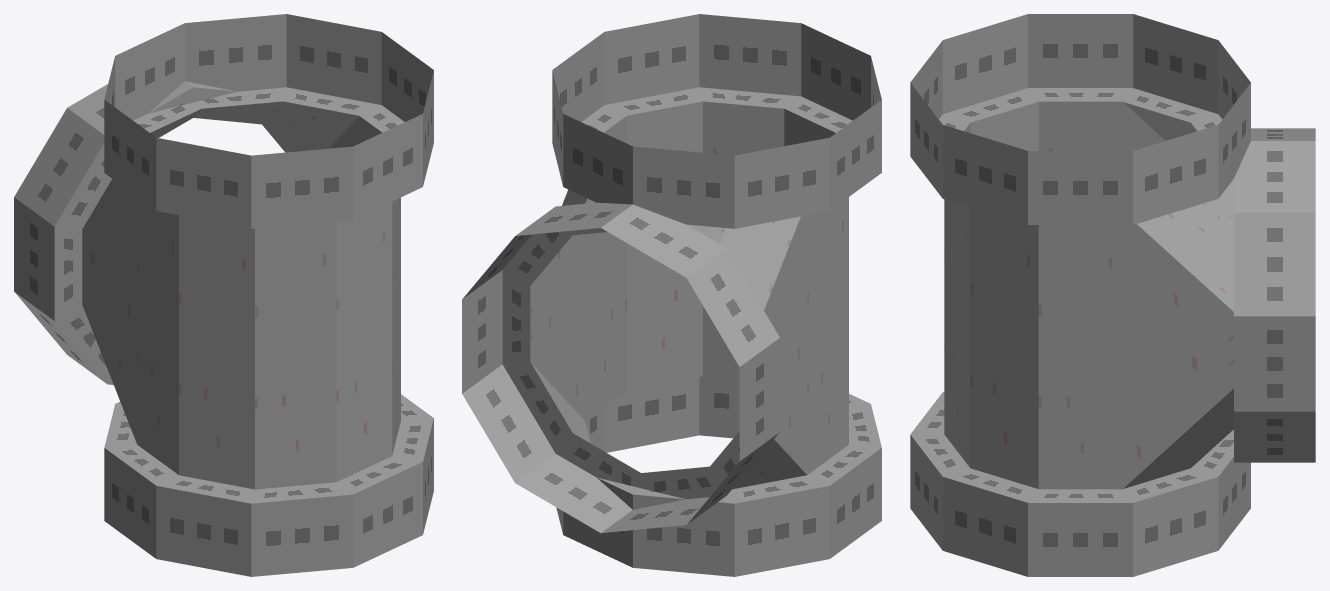
Rendered from Pipe_3.fbx.
3 renders of one model, left to right at view 1: azimuth 30°, elevation 25°; view 2: azimuth 150°, elevation 25°; view 3: azimuth 270°, elevation 25°, orthographic.
Parts seen in each view (by area): view 1: Pipe_3; view 2: Pipe_3; view 3: Pipe_3.
Part boxes in pixels (left/top/right/bottom): Pipe_3: left=14, top=14, right=433, bottom=576; Pipe_3: left=462, top=14, right=881, bottom=576; Pipe_3: left=910, top=14, right=1315, bottom=576.
Bounding box in the file's own units: 59.44 × 86.25 × 74.38.
